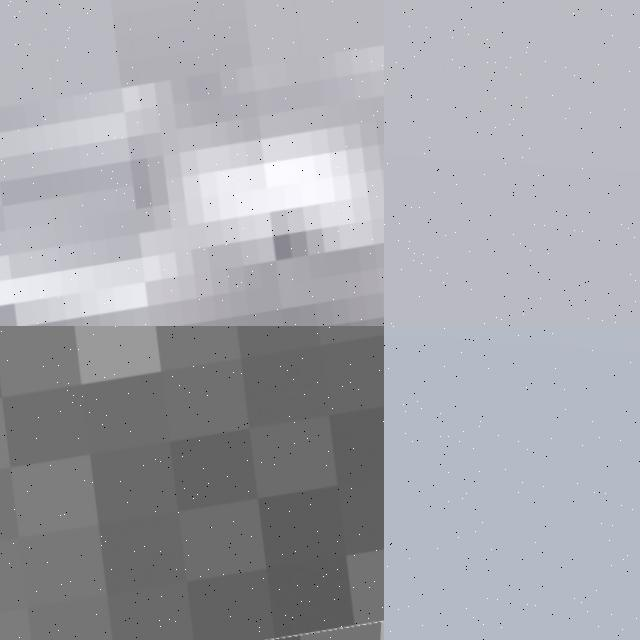drone: (0, 0, 384, 326), (0, 326, 384, 640)
